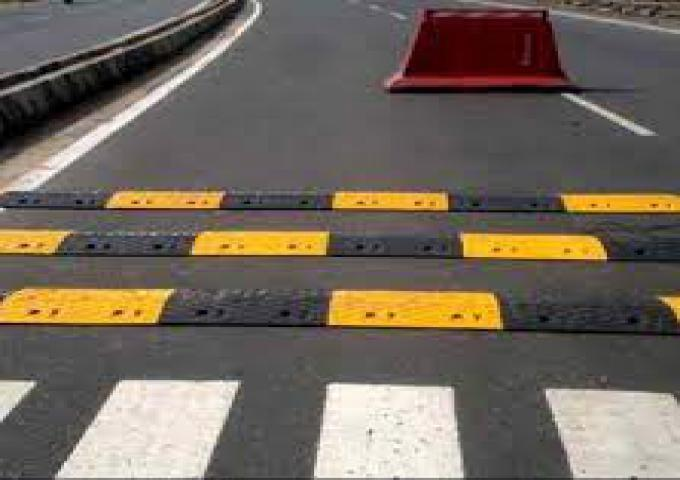Speed_Breaker: (0, 181, 680, 343), (0, 283, 679, 335), (0, 225, 679, 258), (0, 184, 679, 212)
